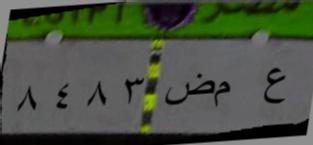3: (121, 71, 145, 108)
4: (48, 75, 77, 116)
8: (10, 80, 42, 116), (85, 76, 109, 111)
ain: (253, 62, 296, 112)
daad: (163, 74, 212, 107)
meem: (212, 79, 233, 112)
